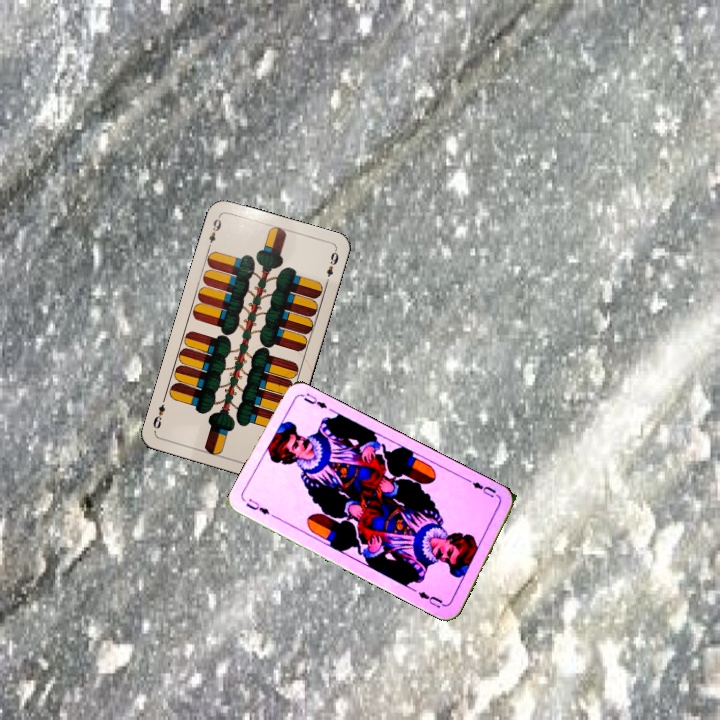E9: (204, 212, 224, 252)
EU: (465, 475, 502, 501), (242, 494, 272, 517)
